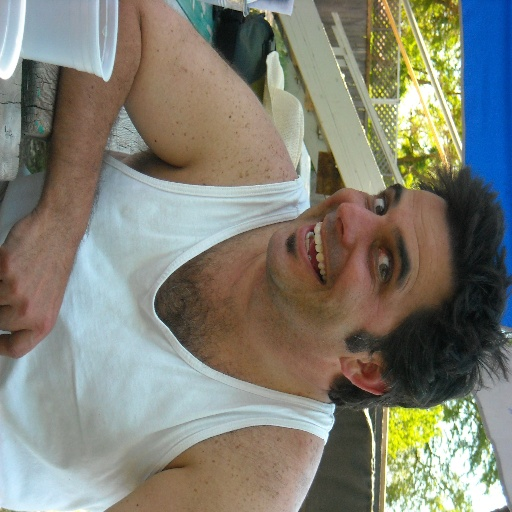hand: (0, 209, 73, 357)
